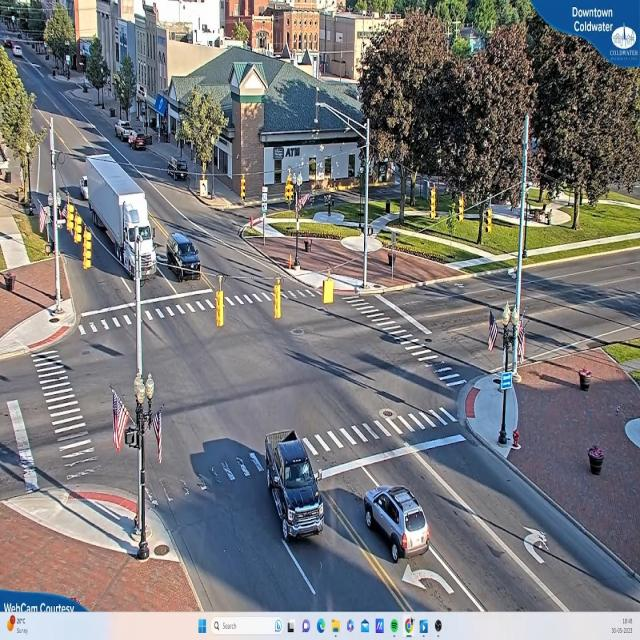car: (264, 435, 324, 542), (363, 487, 432, 561), (118, 122, 134, 142), (129, 135, 149, 150)
truck: (84, 150, 161, 278)
